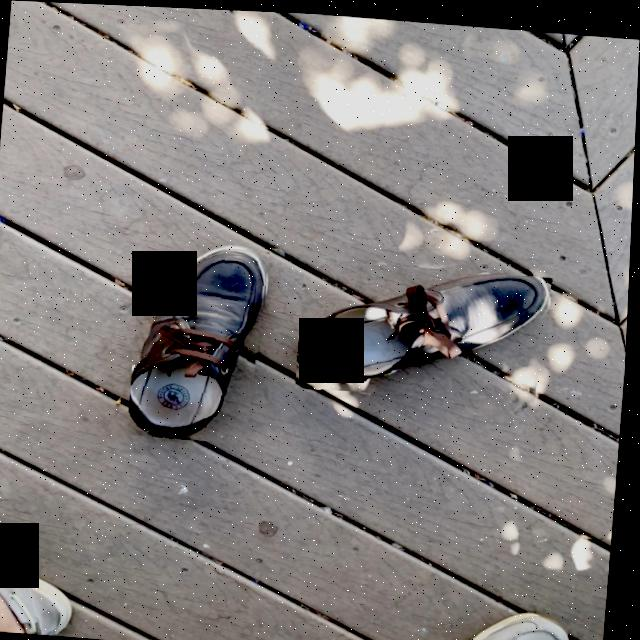shoe: (300, 269, 552, 388), (132, 246, 269, 437)
